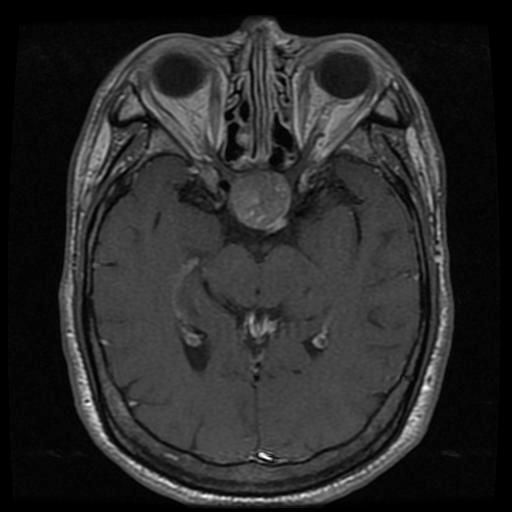Tumour-Pituitary: (223, 168, 295, 240)
